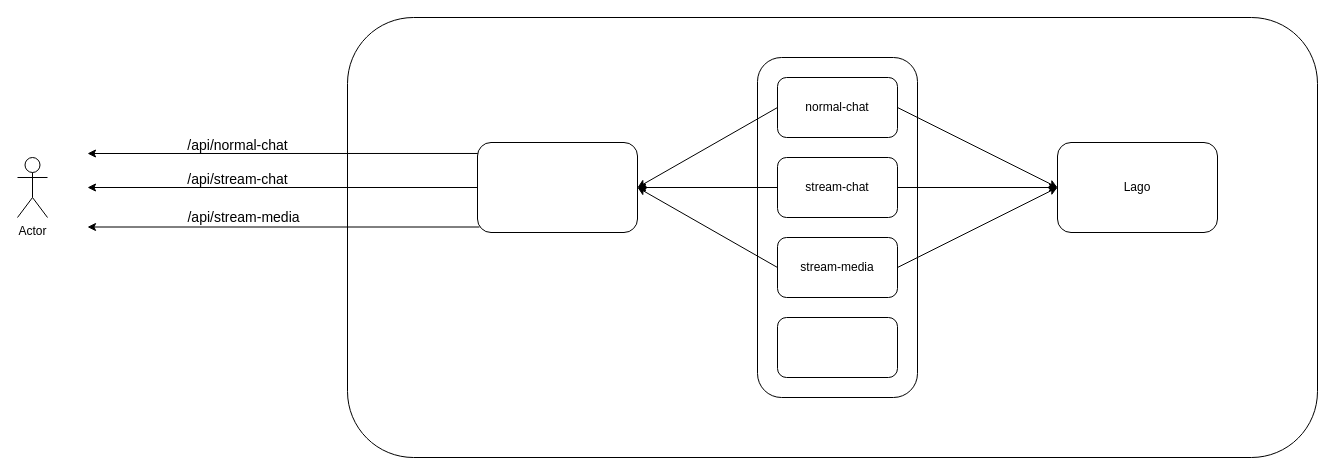
Some shapes in this 1335 by 475 pixel diagram are drawn without their labels. Here are the shapes that lost their labels. From the top down, the centre of each, then its label:
the point at 557,187: Kong Ingress Controller
the point at 837,347: coturn-server
